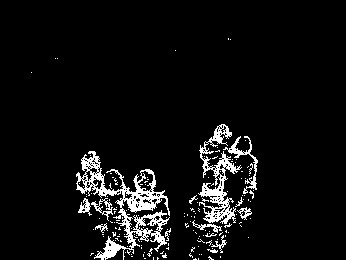person: (183, 167, 234, 260), (124, 167, 171, 260), (212, 135, 258, 218), (94, 167, 135, 260), (199, 123, 239, 194), (75, 149, 107, 218)
